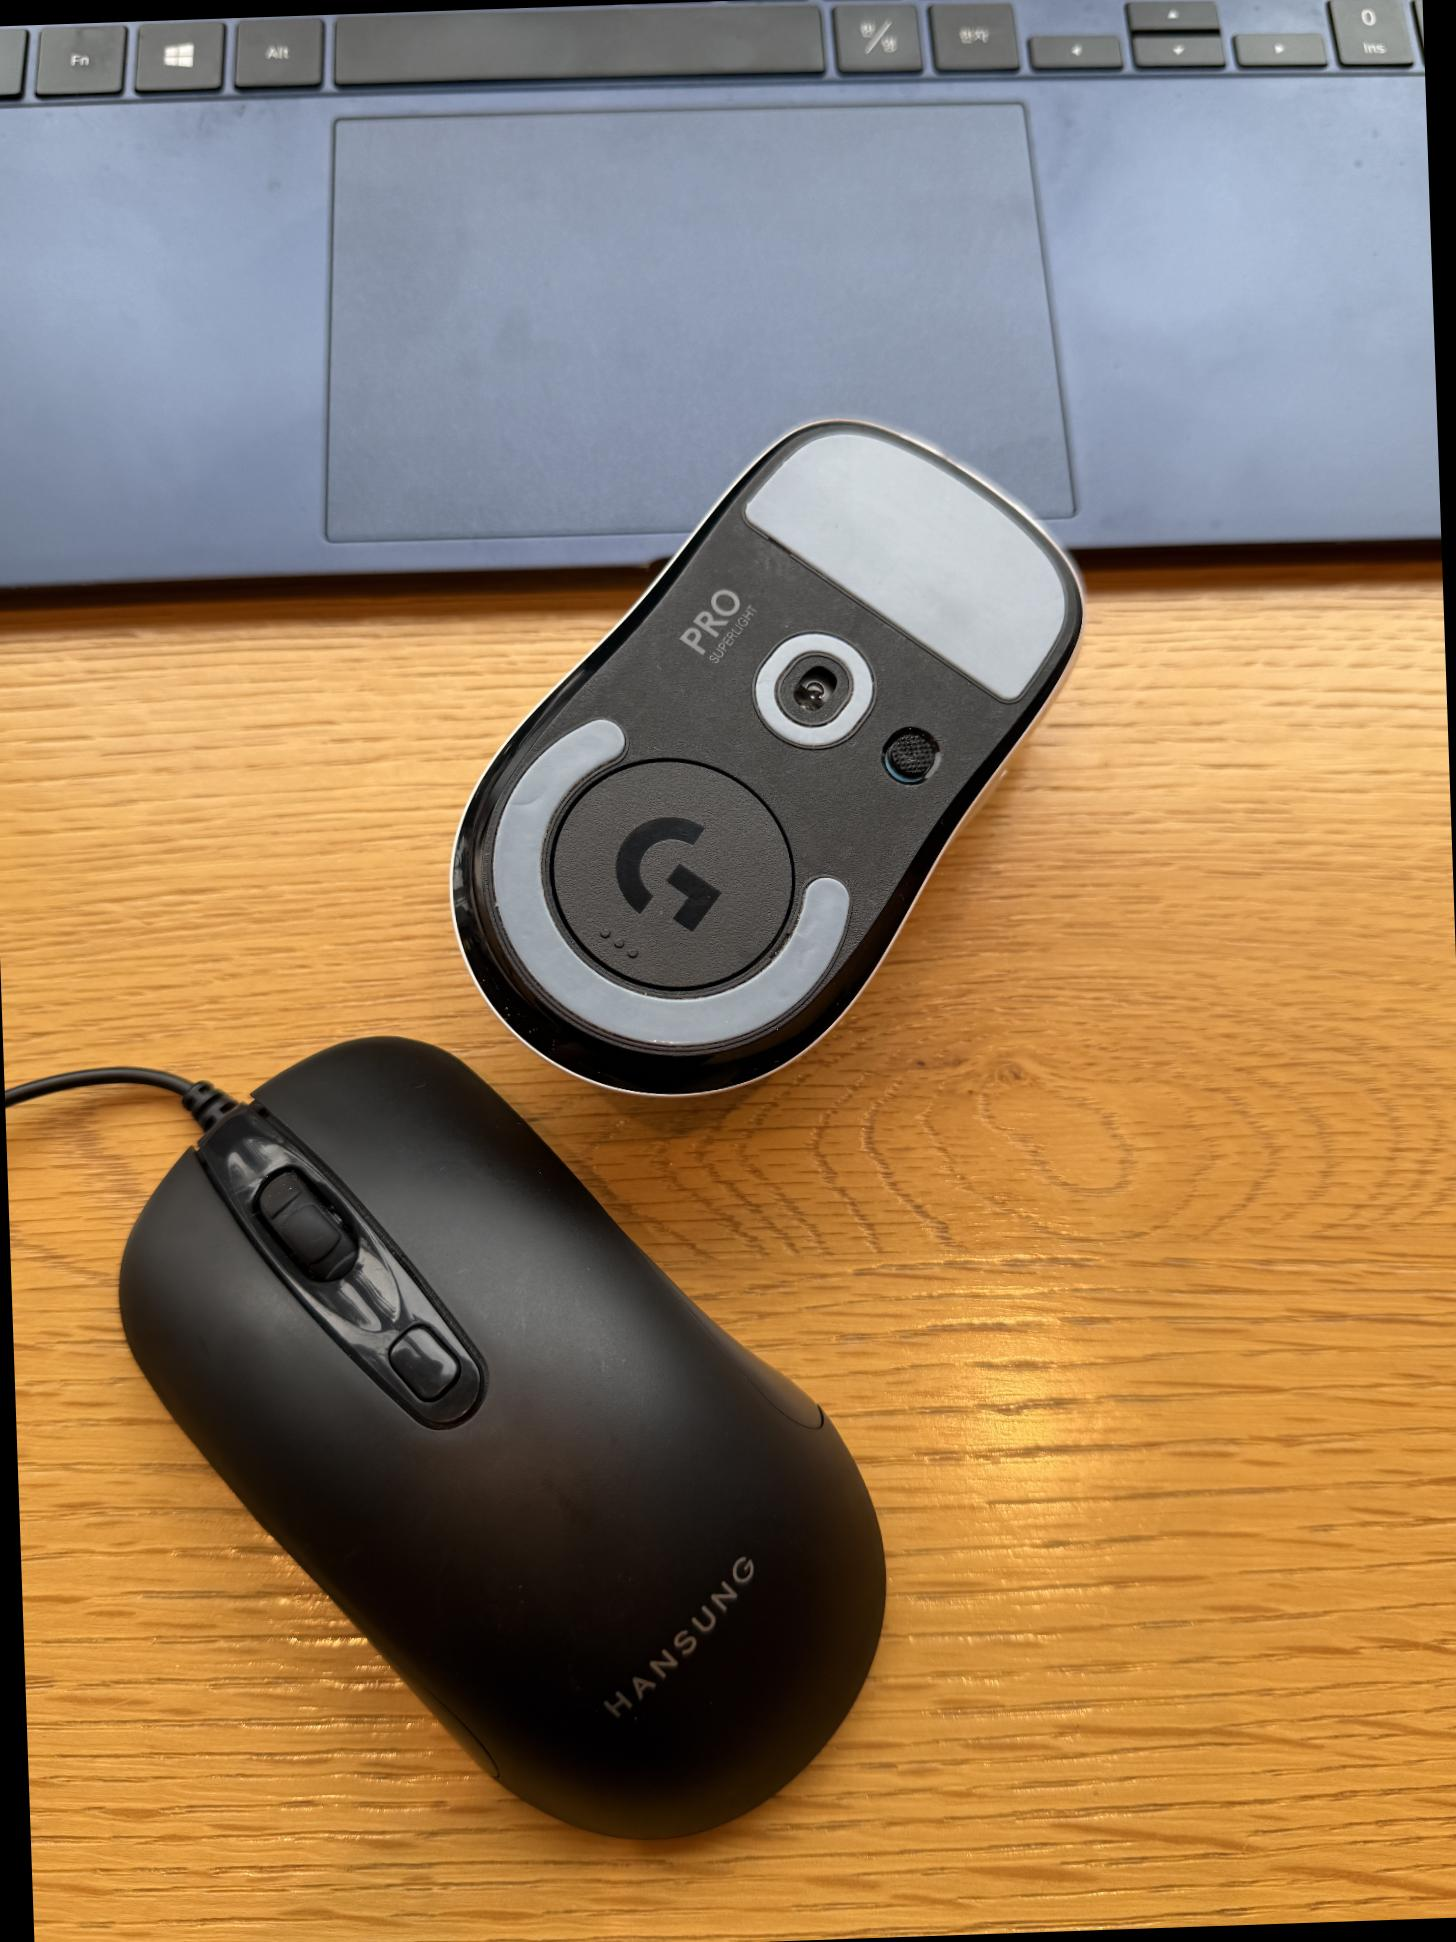back: (431, 405, 1103, 1109)
front: (101, 1015, 899, 1858)
